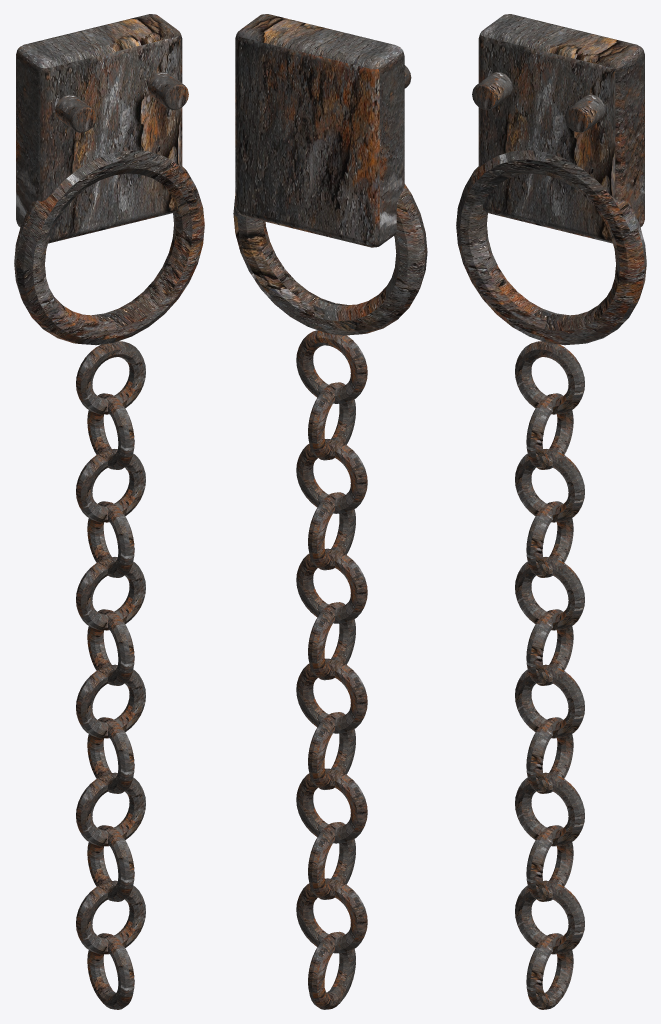
The model's file is chain-ring-v02.glb.
3 renders of one model, left to right at view 1: azimuth 30°, elevation 25°; view 2: azimuth 150°, elevation 25°; view 3: azimuth 330°, elevation 25°, orthographic.
Parts seen in each view (by area): view 1: Chapa de ancoragem, Argola de ferro, Elos da corrente 1, Elos da corrente 7, Elos da corrente 3, Elos da corrente 11, Elos da corrente 5, Elos da corrente 9, Elos da corrente 12, Elos da corrente 8, Elos da corrente 2, Elos da corrente 6 (+4 smaller); view 2: Chapa de ancoragem, Argola de ferro, Elos da corrente 1, Elos da corrente 7, Elos da corrente 5, Elos da corrente 11, Elos da corrente 9, Elos da corrente 3, Elos da corrente 12, Elos da corrente 6, Elos da corrente 2, Elos da corrente 4 (+2 smaller); view 3: Chapa de ancoragem, Argola de ferro, Elos da corrente 1, Elos da corrente 7, Elos da corrente 3, Elos da corrente 11, Elos da corrente 5, Elos da corrente 9, Elos da corrente 12, Elos da corrente 8, Elos da corrente 2, Elos da corrente 6 (+4 smaller).
Part boxes in pixels (bbox=[...]): Chapa de ancoragem: bbox=[16, 14, 182, 243]; Argola de ferro: bbox=[14, 150, 204, 345]; Elos da corrente 1: bbox=[76, 341, 145, 414]; Elos da corrente 7: bbox=[76, 664, 145, 738]; Elos da corrente 3: bbox=[76, 449, 145, 522]; Elos da corrente 11: bbox=[76, 880, 145, 954]; Elos da corrente 5: bbox=[76, 557, 145, 630]; Elos da corrente 9: bbox=[76, 772, 145, 846]; Elos da corrente 12: bbox=[87, 933, 134, 1009]; Elos da corrente 8: bbox=[87, 717, 134, 793]; Elos da corrente 2: bbox=[87, 393, 134, 469]; Elos da corrente 6: bbox=[87, 609, 134, 685]; Chapa de ancoragem: bbox=[235, 14, 404, 247]; Argola de ferro: bbox=[233, 184, 427, 335]; Elos da corrente 1: bbox=[296, 330, 367, 403]; Elos da corrente 7: bbox=[296, 658, 367, 733]; Elos da corrente 5: bbox=[296, 548, 367, 623]; Elos da corrente 11: bbox=[296, 878, 367, 953]; Elos da corrente 9: bbox=[296, 768, 367, 843]; Elos da corrente 3: bbox=[296, 439, 367, 513]; Elos da corrente 12: bbox=[308, 931, 355, 1009]; Elos da corrente 6: bbox=[308, 602, 355, 680]; Elos da corrente 2: bbox=[308, 382, 355, 460]; Elos da corrente 4: bbox=[308, 492, 355, 570]; Chapa de ancoragem: bbox=[478, 14, 644, 243]; Argola de ferro: bbox=[456, 150, 646, 345]; Elos da corrente 1: bbox=[515, 341, 584, 414]; Elos da corrente 7: bbox=[515, 664, 584, 738]; Elos da corrente 3: bbox=[515, 449, 584, 522]; Elos da corrente 11: bbox=[515, 880, 584, 954]; Elos da corrente 5: bbox=[515, 557, 584, 630]; Elos da corrente 9: bbox=[515, 772, 584, 846]; Elos da corrente 12: bbox=[526, 933, 573, 1009]; Elos da corrente 8: bbox=[526, 717, 573, 793]; Elos da corrente 2: bbox=[526, 393, 573, 469]; Elos da corrente 6: bbox=[526, 609, 573, 685].
Size of the model in its own units: 0.362 by 1.78 by 0.1575.
1 material, 1 textured.
